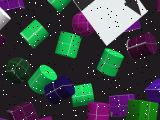Right: (73, 0, 147, 46)
